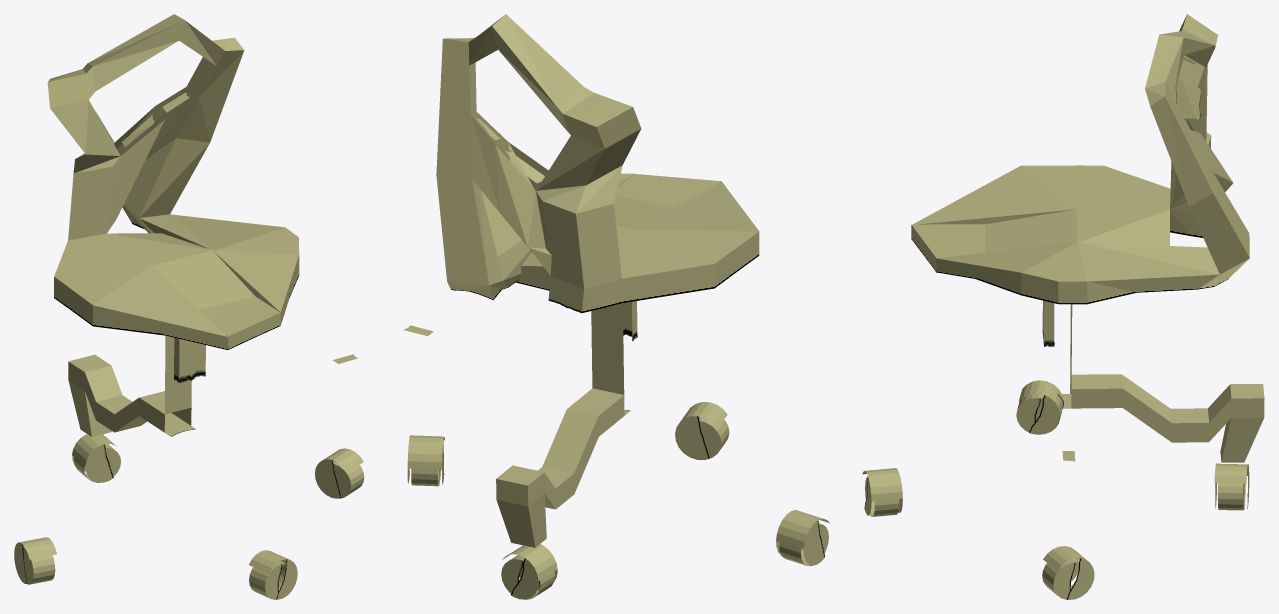
The model's file is chair.fbx.
3 views of the same model, side by side, from view 1: azimuth 30°, elevation 25°; view 2: azimuth 150°, elevation 25°; view 3: azimuth 270°, elevation 25° (orthographic). The views are drawn at different scales.
Parts seen in each view (by area): view 1: polySurface69; view 2: polySurface69; view 3: polySurface69.
Part boxes in pixels (left/top/right/bottom): polySurface69: left=14, top=14, right=364, bottom=599; polySurface69: left=404, top=14, right=829, bottom=599; polySurface69: left=862, top=14, right=1264, bottom=599.
Size of the model in its own units: 4.32 by 5.5 by 4.
